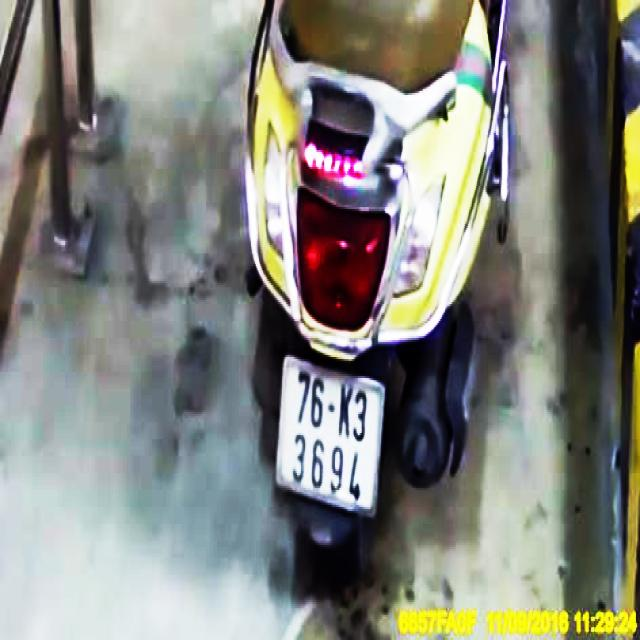license_plate: (276, 356, 383, 512)
